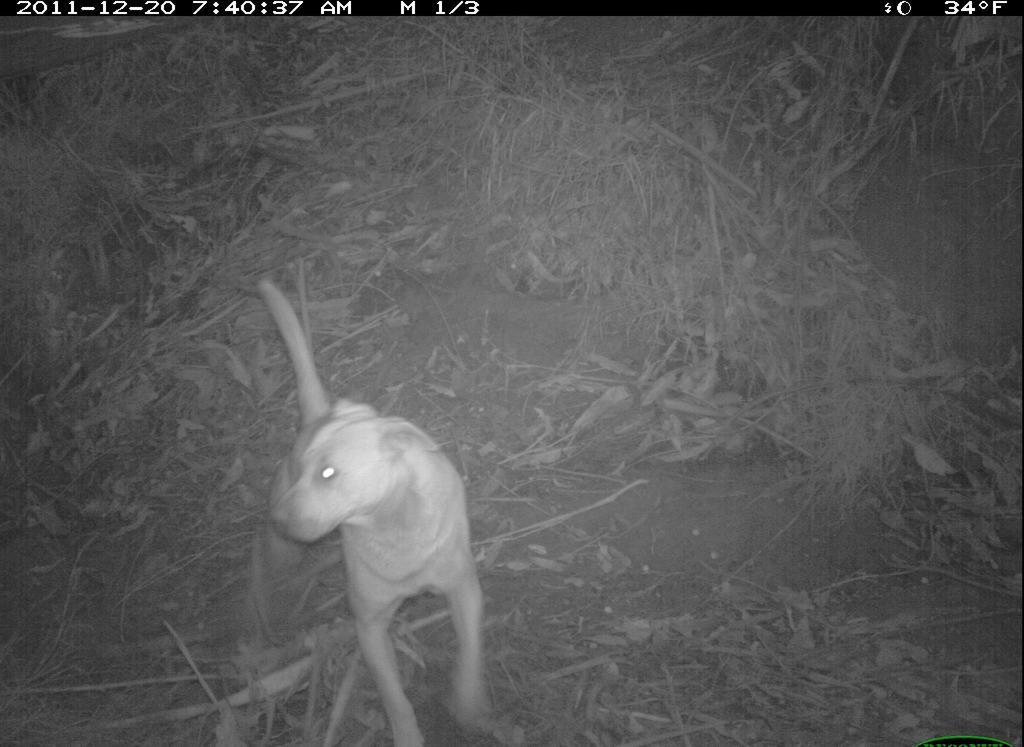dog: (232, 273, 516, 733)
